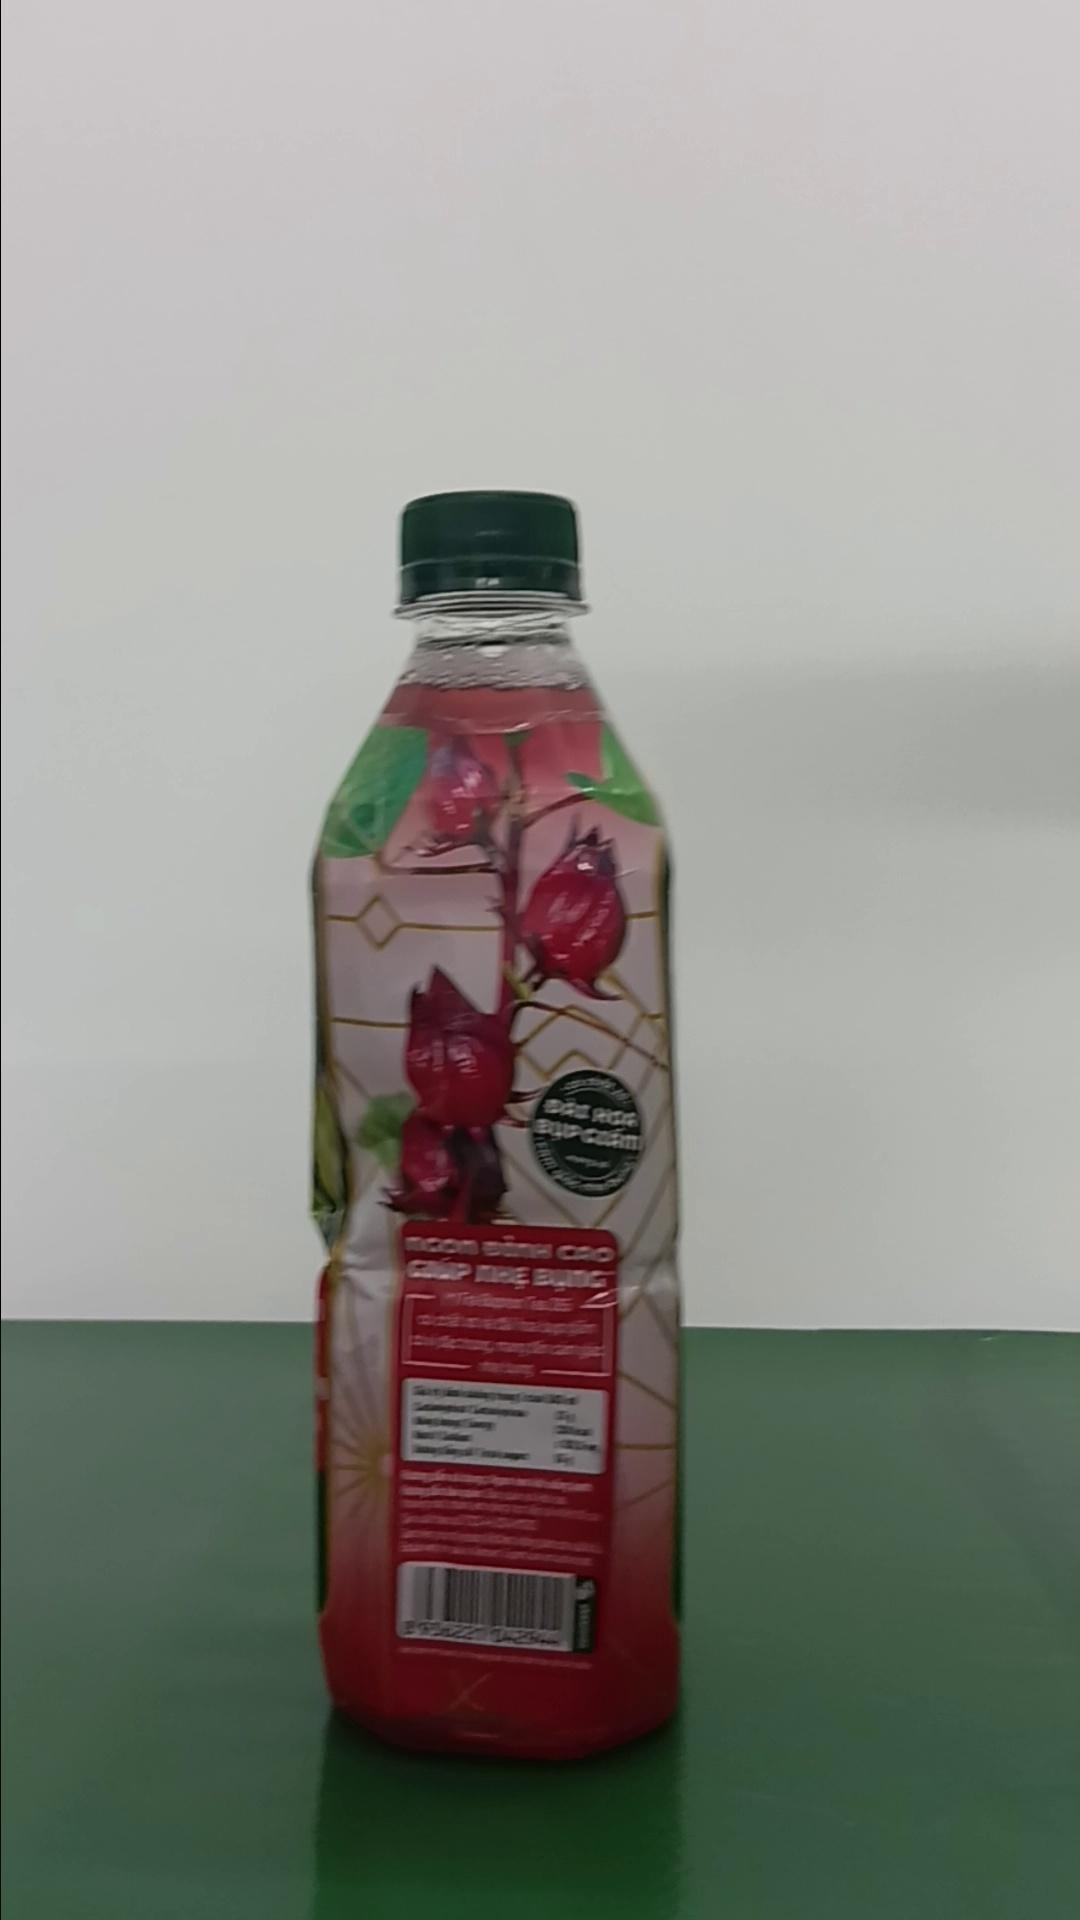loi meo sp: (305, 487, 686, 1762)
